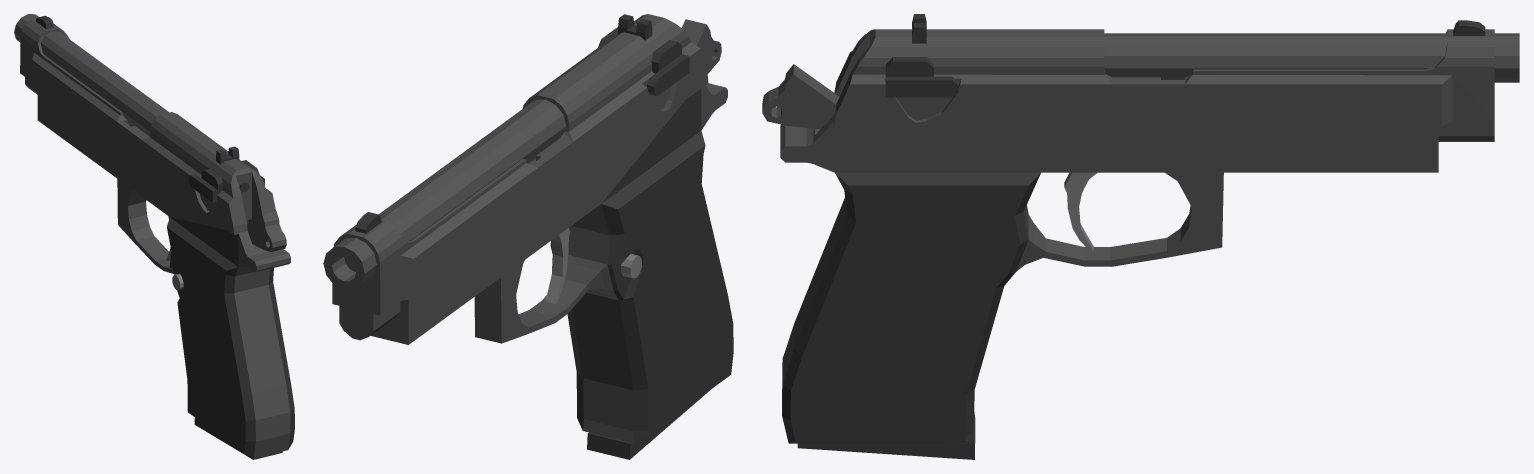
3 renders of one model, left to right at view 1: azimuth 30°, elevation 25°; view 2: azimuth 150°, elevation 25°; view 3: azimuth 270°, elevation 25°, orthographic. The views are drawn at different scales.
Parts seen in each view (by area): view 1: M9, Slide, Magazin; view 2: M9, Slide, Magazin, Trigger; view 3: M9, Slide, Magazin, Trigger.
Boxes of the visible parts, <box> form: M9: <box>14,14,294,458</box>; Slide: <box>20,16,275,234</box>; Magazin: <box>194,220,282,459</box>; M9: <box>323,19,733,443</box>; Slide: <box>332,14,708,340</box>; Magazin: <box>587,389,711,459</box>; Trigger: <box>545,228,569,303</box>; M9: <box>762,33,1519,443</box>; Slide: <box>834,14,1494,141</box>; Magazin: <box>797,443,974,459</box>; Trigger: <box>1064,172,1097,251</box>.
Bounding box in the file's own units: 2.09 × 10.91 × 17.47.
Materials: 1 (1 with a texture image).
